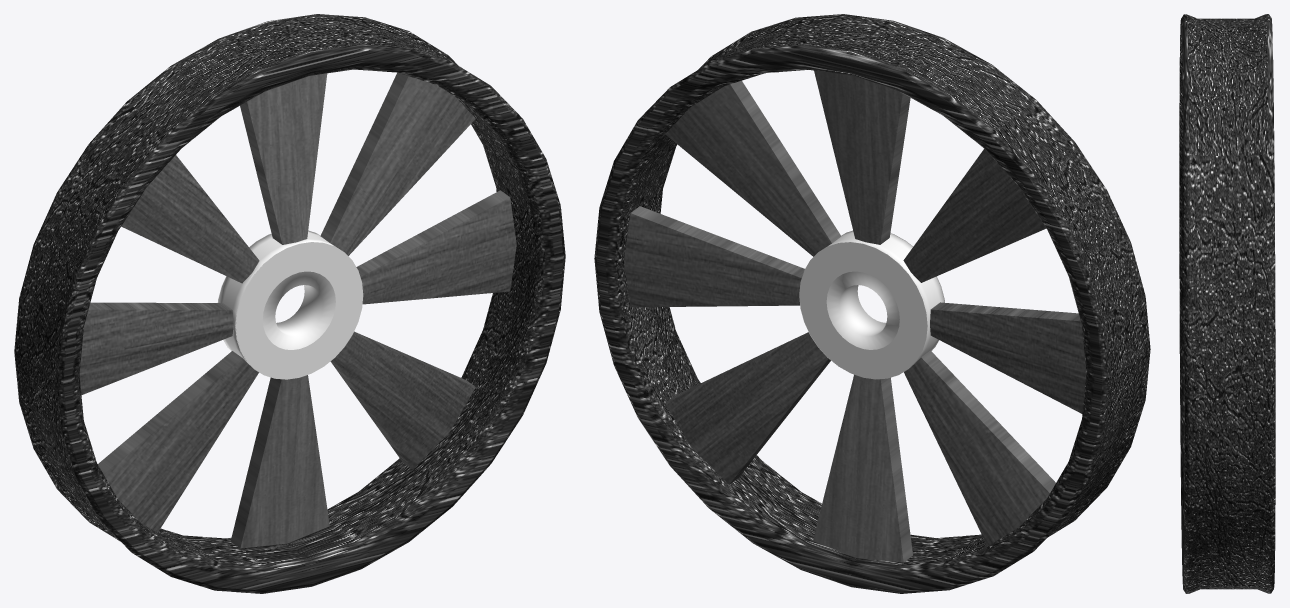
The model's file is cinta.obj.
The picture shows the model from 3 angles, left to right: view 1: azimuth 30°, elevation 25°; view 2: azimuth 150°, elevation 25°; view 3: azimuth 270°, elevation 25°; orthographic projection.
Visible parts, largest first — view 1: pasted__polySurface41 group pasted__polySurface46, pasted__polySurface62 pasted__polySurface41 group; view 2: pasted__polySurface41 group pasted__polySurface46, pasted__polySurface62 pasted__polySurface41 group; view 3: pasted__polySurface41 group pasted__polySurface46.
Boxes of the visible parts, box(x1,y1,x2,y2) form: pasted__polySurface41 group pasted__polySurface46: box(14, 14, 565, 593); pasted__polySurface62 pasted__polySurface41 group: box(217, 230, 363, 379); pasted__polySurface41 group pasted__polySurface46: box(594, 14, 1150, 593); pasted__polySurface62 pasted__polySurface41 group: box(799, 230, 944, 379); pasted__polySurface41 group pasted__polySurface46: box(1179, 14, 1275, 593).
Size of the model in its own units: 0.3907 by 0.3901 by 0.0648.
Materials: 4 (4 with a texture image).
